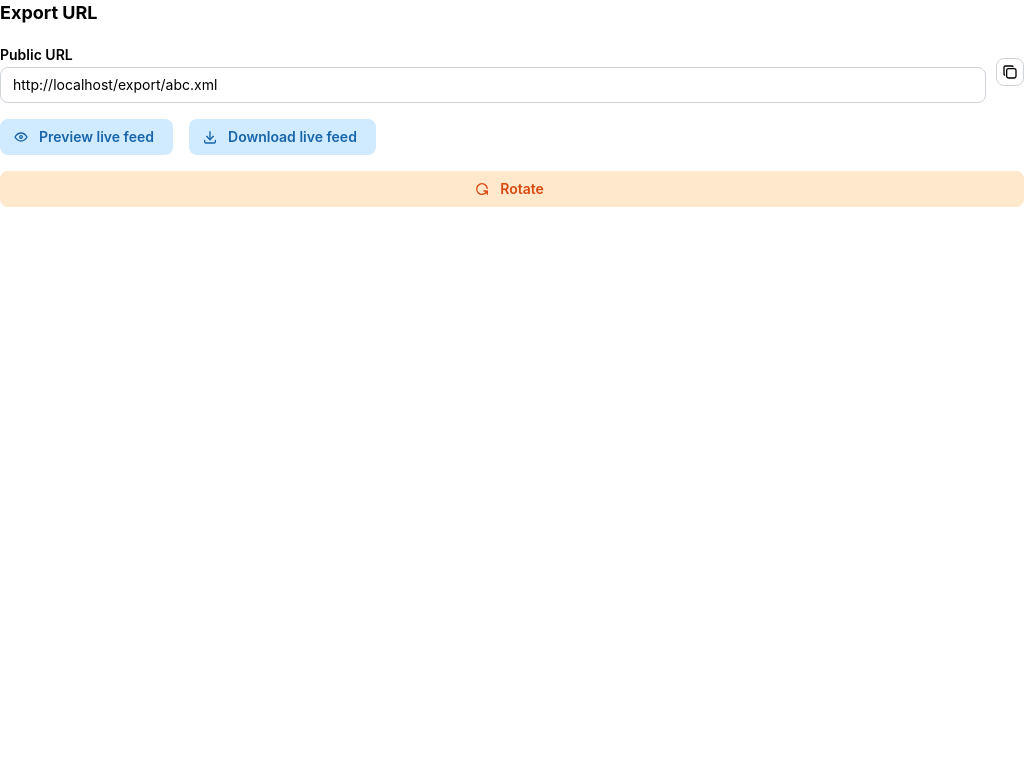
ExportUrlBlock › toasts rotateFailed when rotation fails without a server detail
The width and height of the screenshot is (1024, 768).
Step 1. Click the button "Rotate" → {"x": 512, "y": 189}, box [0,171,1023,207]
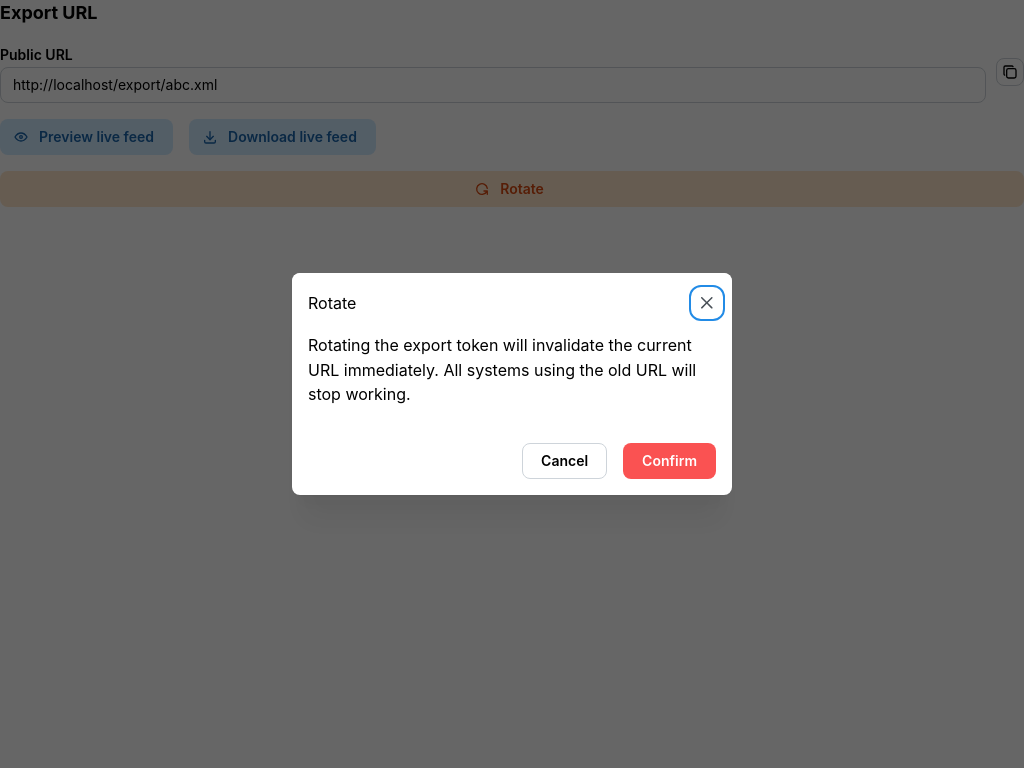
Step 2. Click the button "Confirm" → {"x": 670, "y": 461}, box [623,443,716,479]
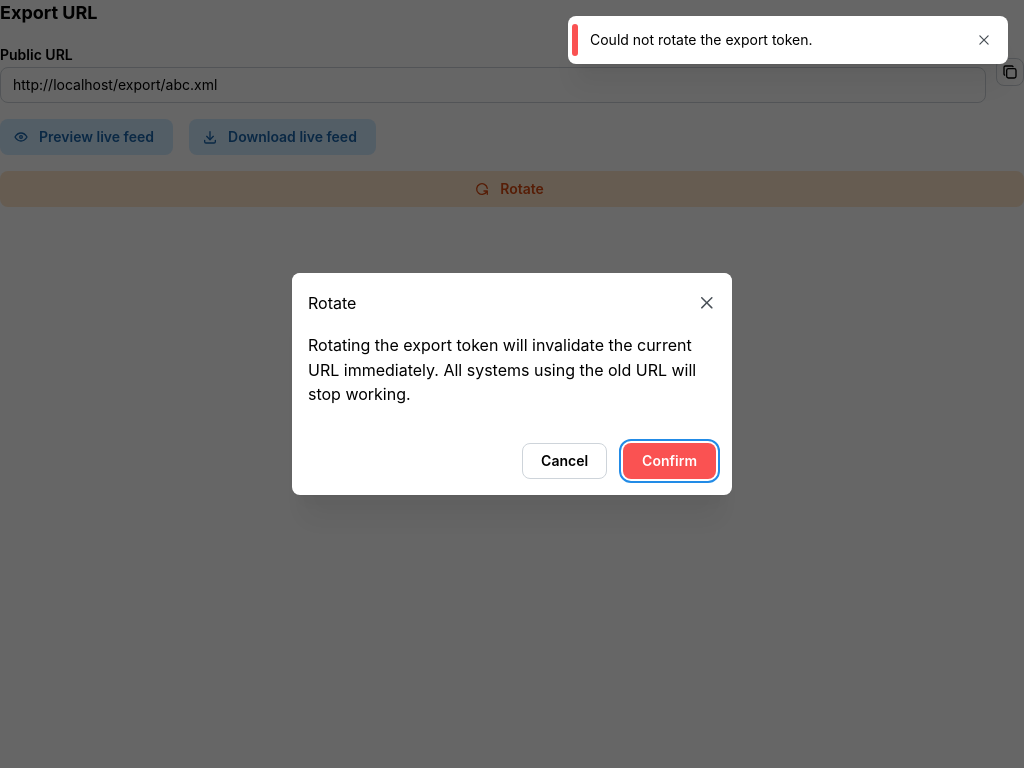
Expected: the text "Could not rotate the export token." is shown, [590,31,813,48]
